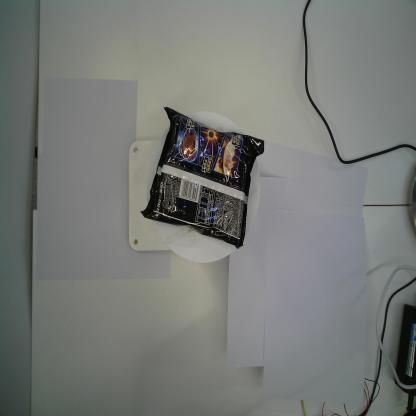Instant Noodles: (141, 105, 267, 254)
